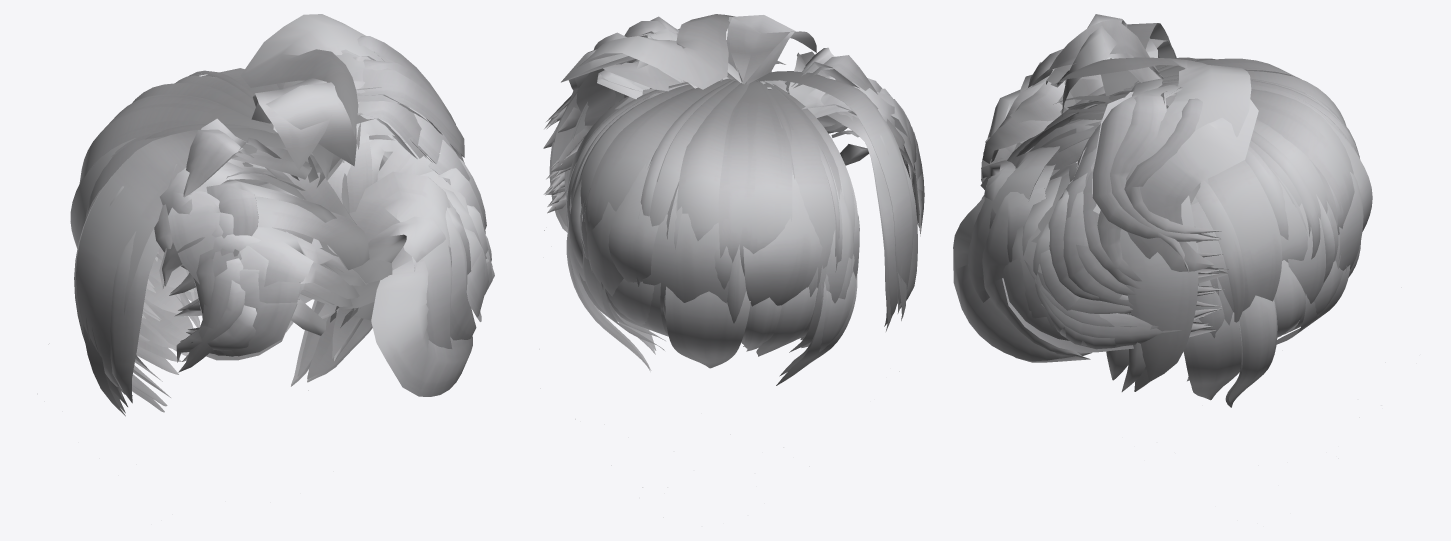
The model's file is vroid_hair_c11v5r.glb.
The picture shows the model from 3 angles, left to right: view 1: azimuth 30°, elevation 25°; view 2: azimuth 150°, elevation 25°; view 3: azimuth 270°, elevation 25°; orthographic projection. The views are drawn at different scales.
Visible parts, largest first — view 1: hair; view 2: hair; view 3: hair.
Part boxes in pixels (x1,y1,x2,y2): hair: [37, 14, 494, 416]; hair: [539, 14, 924, 517]; hair: [953, 14, 1401, 458].
Bounding box in the file's own units: 0.2114 × 0.2585 × 0.2409.
1 material, 1 textured.
